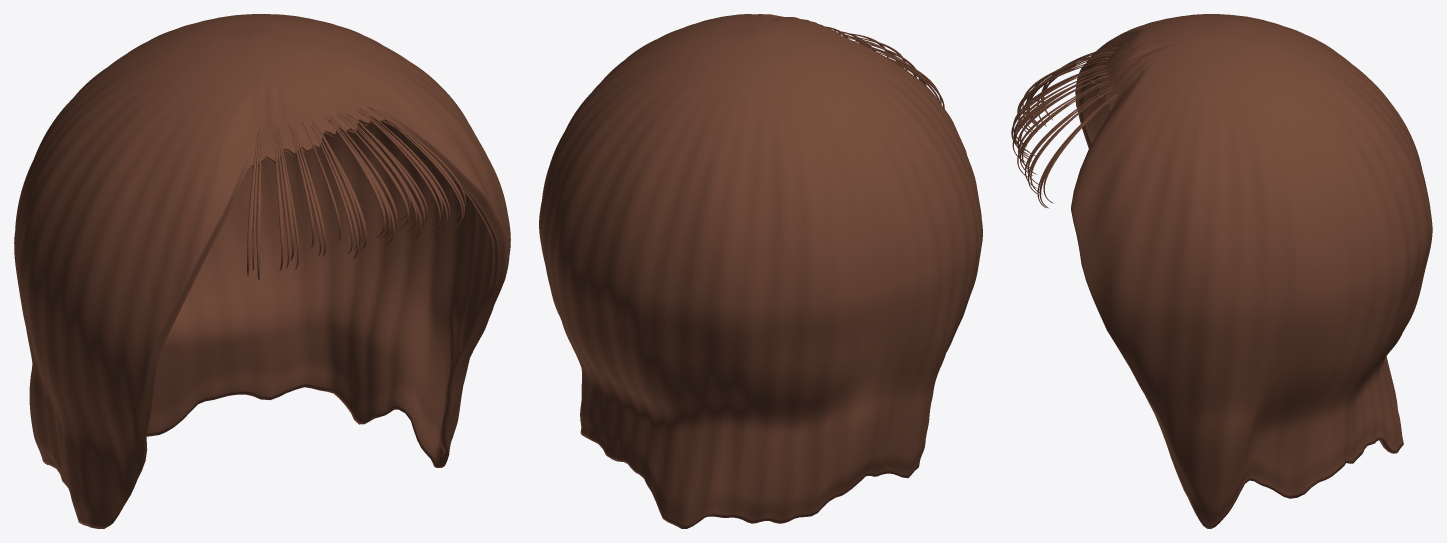
Rendered from side-sweep-none.glb.
3 views of the same model, side by side, from view 1: azimuth 30°, elevation 25°; view 2: azimuth 150°, elevation 25°; view 3: azimuth 270°, elevation 25° (orthographic). The views are drawn at different scales.
Parts seen in each view (by area): view 1: Hair / layered lob, Fringe / fine strands; view 2: Hair / layered lob, Fringe / fine strands; view 3: Hair / layered lob, Fringe / fine strands.
Part boxes in pixels (x1,y1,x2,y2): Hair / layered lob: [14, 14, 510, 528]; Fringe / fine strands: [247, 105, 465, 280]; Hair / layered lob: [539, 14, 982, 528]; Fringe / fine strands: [825, 26, 944, 108]; Hair / layered lob: [1071, 14, 1432, 528]; Fringe / fine strands: [1011, 47, 1118, 208].
Size of the model in its own units: 0.8388 by 0.8786 by 0.8009.
